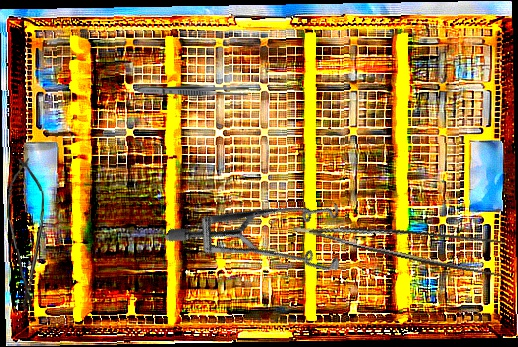Dressing Forceps: (137, 85, 249, 96)
Micro Scissor: (5, 155, 48, 314)
Speculum: (163, 134, 368, 329)
Tissue Forceps: (292, 191, 515, 285)
